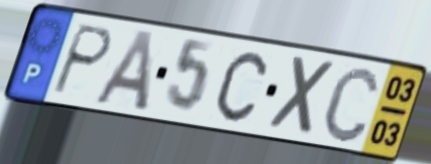5: (164, 35, 218, 120)
A: (90, 27, 159, 114)
C: (320, 63, 382, 145), (213, 49, 269, 125)
P: (47, 21, 117, 98)
X: (266, 52, 341, 139)
